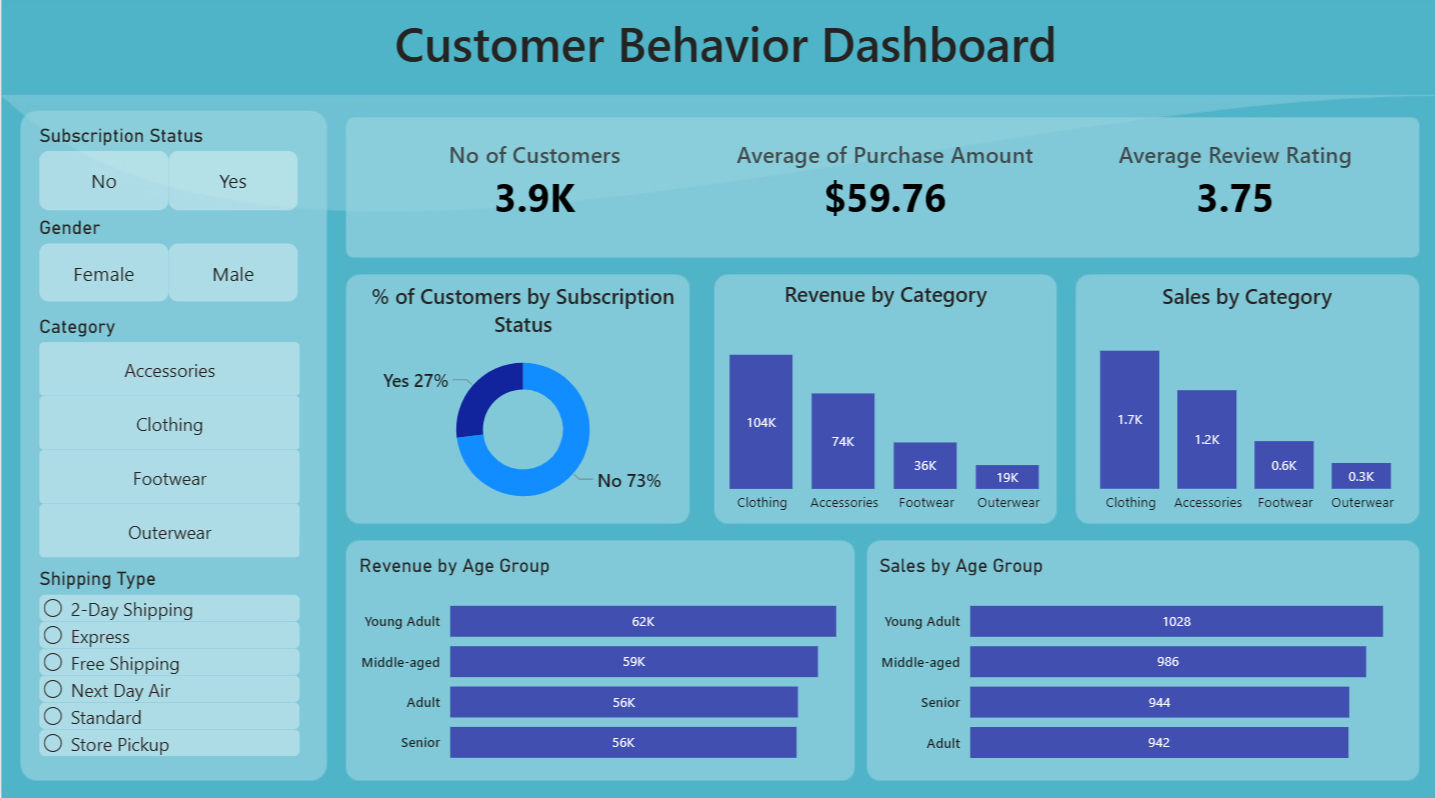

Layout of this report page (visuals, bound fields, positions):
{"tool":"powerbi","page":{"name":"Page 1","canvas":[1280,720],"ordinal":0},"visuals":[{"type":"cardVisual","fields":{"Data":["public customer.No of Customers","public customer.Average of Purchase Amount","public customer.Average Review Rating"]},"box":[313.8,106.2,948.8,118.8],"z":0},{"type":"donutChart","title":"% of  Customers by Subscription Status","fields":{"Category":["public customer.subscription_status"],"Y":["CountNonNull(public customer.customer_id)"]},"box":[313.7,254.6,301.6,214.7],"z":1000},{"type":"columnChart","title":"Revenue by Category","fields":{"Category":["public customer.category"],"Y":["Sum(public customer.purchase_amount)"]},"box":[615,253.8,346.2,216.2],"z":2000},{"type":"columnChart","title":"Sales by Category","fields":{"Category":["public customer.category"],"Y":["CountNonNull(public customer.purchase_amount)"]},"box":[946.2,255,326.2,215],"z":3000},{"type":"clusteredBarChart","title":"Revenue by Age Group","fields":{"Y":["Sum(public customer.purchase_amount)"],"Category":["public customer.age_group"]},"box":[313.8,497.5,463.8,202.5],"z":4000},{"type":"advancedSlicerVisual","title":"Subscription Status","fields":{"Values":["public customer.subscription_status"]},"box":[29.5,115,241.6,82.4],"z":5000},{"type":"clusteredBarChart","title":"Sales by Age Group","fields":{"Category":["public customer.age_group"],"Y":["CountNonNull(public customer.customer_id)"]},"box":[776.9,497.1,494.6,202.7],"z":6000},{"type":"advancedSlicerVisual","title":"Category","fields":{"Values":["public customer.category"]},"box":[29.1,285.5,242.2,224.7],"z":7000},{"type":"listSlicer","title":"Shipping Type","fields":{"Values":["public customer.shipping_type"]},"box":[29.1,510.2,242.2,176.1],"z":8000},{"type":"advancedSlicerVisual","title":"Gender","fields":{"Values":["public customer.gender"]},"box":[29,196.6,241.3,82],"z":9000},{"type":"textbox","box":[328.2,8.4,633.4,78.4],"z":9001}]}

Visuals, with their boxes in screenshot pixels (x1, y1, x2, y2), scaled from the page's 1280x720 canvas onto the 1435x798 screenshot:
cardVisual - public customer.No of Customers x public customer.Average of Purchase Amount: l=352, t=118, r=1415, b=249
"% of  Customers by Subscription Status" donutChart: l=352, t=282, r=690, b=520
"Revenue by Category" columnChart: l=689, t=281, r=1078, b=521
"Sales by Category" columnChart: l=1061, t=283, r=1426, b=521
"Revenue by Age Group" clusteredBarChart: l=352, t=551, r=872, b=776
"Subscription Status" advancedSlicerVisual: l=33, t=127, r=304, b=219
"Sales by Age Group" clusteredBarChart: l=871, t=551, r=1425, b=776
"Category" advancedSlicerVisual: l=33, t=316, r=304, b=565
"Shipping Type" listSlicer: l=33, t=565, r=304, b=761
"Gender" advancedSlicerVisual: l=33, t=218, r=303, b=309
textbox: l=368, t=9, r=1078, b=96
